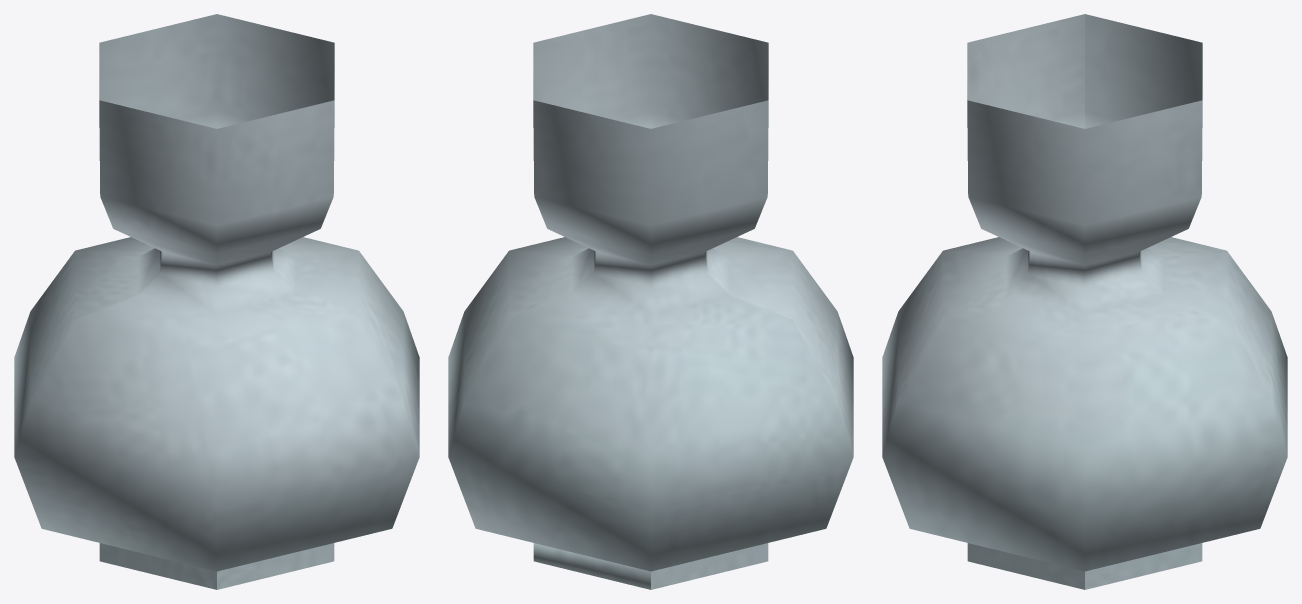
File: vase.FBX
The picture shows the model from 3 angles, left to right: view 1: azimuth 30°, elevation 25°; view 2: azimuth 150°, elevation 25°; view 3: azimuth 270°, elevation 25°; orthographic projection.
Parts seen in each view (by area): view 1: vase; view 2: vase; view 3: vase.
Boxes of the visible parts, left/top/right/bottom form: vase: left=14, top=14, right=419, bottom=589; vase: left=448, top=14, right=853, bottom=589; vase: left=882, top=14, right=1287, bottom=589.
Bounding box in the file's own units: 22.69 × 24.66 × 19.65.
1 material, 1 textured.
